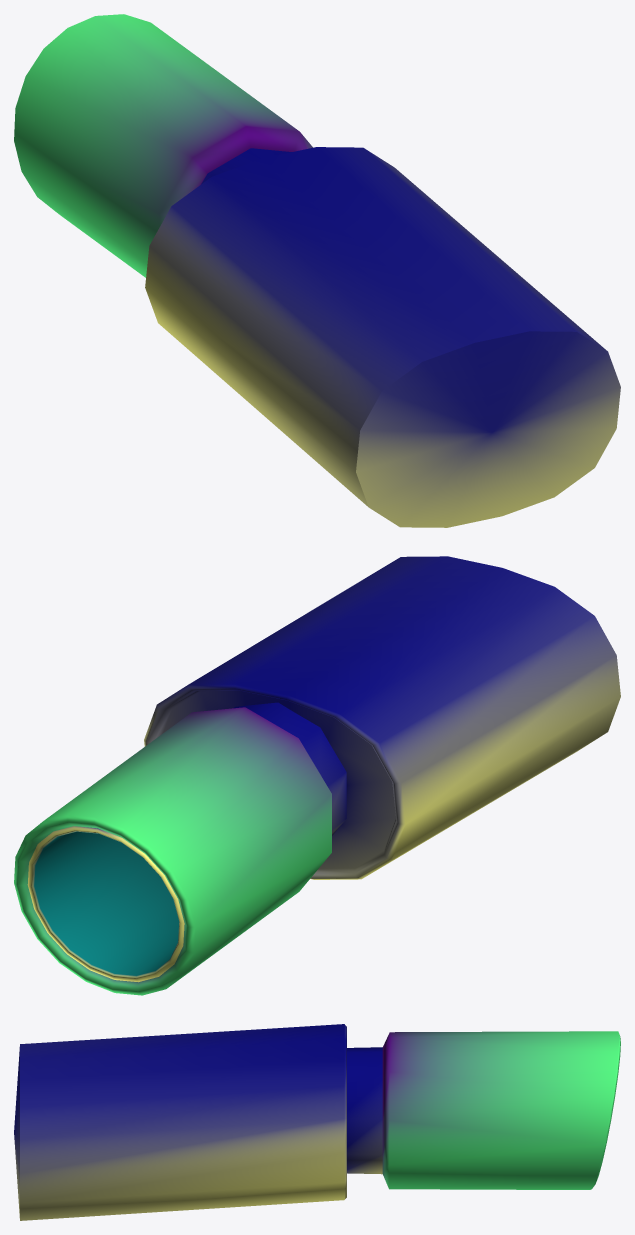
Rendered from Car_Nissan_SkylineGTRVspecR34_1999_Exhausts_SetFD.fbx.
3 views of the same model, one above another, from view 1: azimuth 30°, elevation 25°; view 2: azimuth 150°, elevation 25°; view 3: azimuth 270°, elevation 25° (orthographic). The views are drawn at different scales.
Visible parts, largest first — view 1: Exhausts 6; view 2: Exhausts 6; view 3: Exhausts 6.
Boxes of the visible parts, bbox=[...] form: Exhausts 6: bbox=[14, 14, 620, 527]; Exhausts 6: bbox=[14, 556, 620, 995]; Exhausts 6: bbox=[14, 1024, 620, 1220].
Size of the model in its own units: 0.1715 by 0.1327 by 0.4473.
